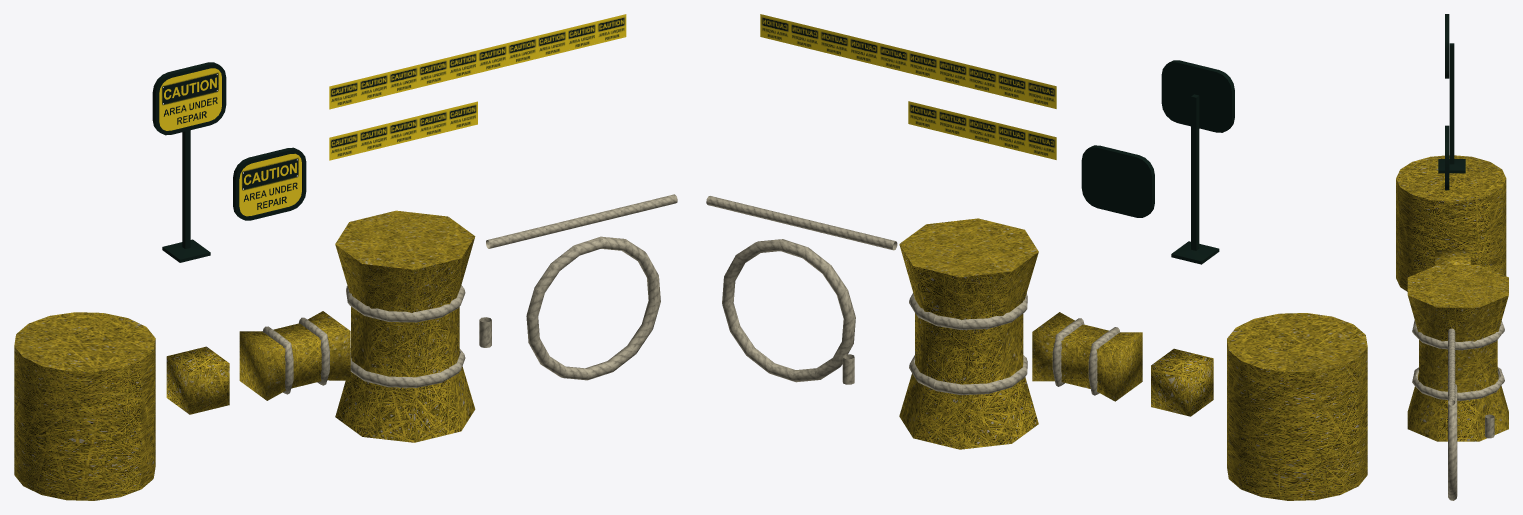
File: props.glb
The picture shows the model from 3 angles, left to right: view 1: azimuth 30°, elevation 25°; view 2: azimuth 150°, elevation 25°; view 3: azimuth 270°, elevation 25°; orthographic projection. The views are drawn at different scales.
Visible parts, largest first — view 1: bottedefoinroundwrope, bottedefoinround, bottedefoinwrope, cautionlong, billboard.001, roperound, billboard, bottedefoinsquare, cautionshort, ropestraight; view 2: bottedefoinroundwrope, bottedefoinround, bottedefoinwrope, cautionlong, billboard.001, roperound, billboard, bottedefoinsquare, cautionshort, ropestraight; view 3: bottedefoinroundwrope, bottedefoinround, billboard.001, roperound, ropestraight, bottedefoinsquare, billboard, rope.
Part boxes in pixels (x1,y1,x2,y2): bottedefoinroundwrope: (335, 210, 475, 442); bottedefoinround: (14, 312, 155, 500); bottedefoinwrope: (239, 311, 350, 400); cautionlong: (329, 14, 626, 109); billboard.001: (152, 62, 226, 262); roperound: (526, 236, 660, 380); billboard: (233, 147, 306, 220); bottedefoinsquare: (166, 346, 229, 414); cautionshort: (329, 101, 477, 160); ropestraight: (486, 194, 677, 248); bottedefoinroundwrope: (899, 218, 1038, 449); bottedefoinround: (1227, 313, 1367, 500); bottedefoinwrope: (1032, 312, 1142, 401); cautionlong: (760, 14, 1056, 108); billboard.001: (1161, 60, 1234, 264); roperound: (722, 239, 855, 382); billboard: (1081, 145, 1154, 217); bottedefoinsquare: (1151, 348, 1213, 416); cautionshort: (908, 101, 1056, 159); ropestraight: (706, 196, 897, 250); bottedefoinroundwrope: (1407, 265, 1508, 441); bottedefoinround: (1396, 155, 1506, 291); billboard.001: (1438, 14, 1465, 173); roperound: (1448, 384, 1457, 500); ropestraight: (1448, 328, 1455, 405); bottedefoinsquare: (1435, 250, 1470, 265); billboard: (1445, 125, 1449, 190); rope: (1485, 414, 1494, 438).
Bounding box in the file's own units: 7.55 × 4.56 × 1.46.
Materials: 3 (3 with a texture image).
